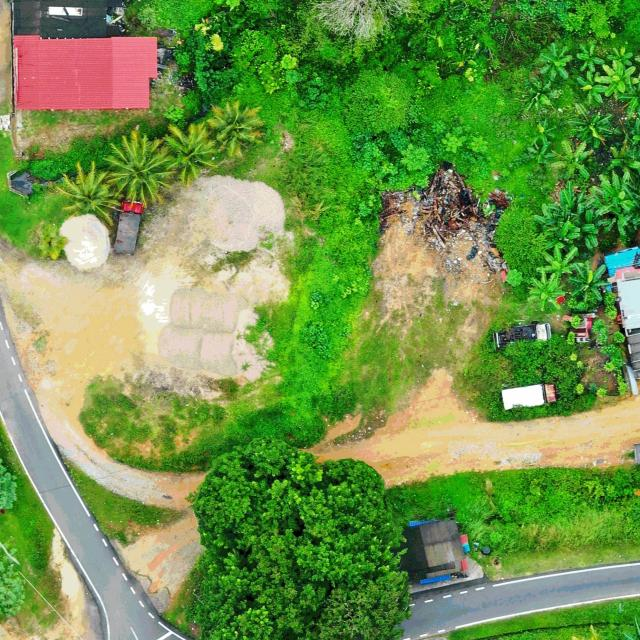Tree: (194, 433, 412, 640), (102, 129, 175, 208), (51, 158, 125, 229), (534, 179, 599, 249), (161, 122, 222, 187), (589, 168, 640, 236), (207, 100, 264, 159), (567, 102, 615, 149), (567, 262, 611, 308), (539, 245, 584, 288), (0, 416, 19, 516), (549, 140, 594, 179), (528, 270, 565, 312), (595, 64, 640, 98), (537, 42, 574, 82), (33, 220, 69, 261), (577, 70, 609, 105), (619, 72, 640, 122), (575, 43, 605, 72), (624, 117, 640, 164), (608, 48, 632, 70), (634, 44, 640, 76)
